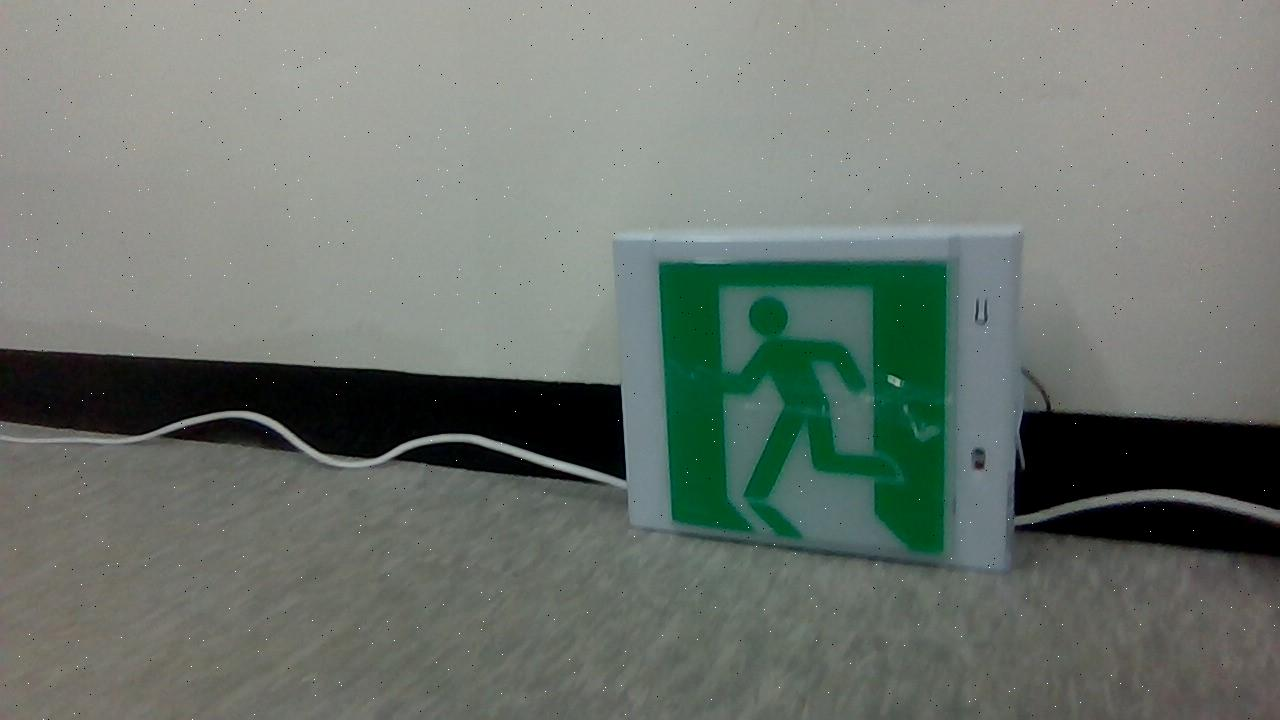emergency_exit: (611, 225, 1025, 574)
